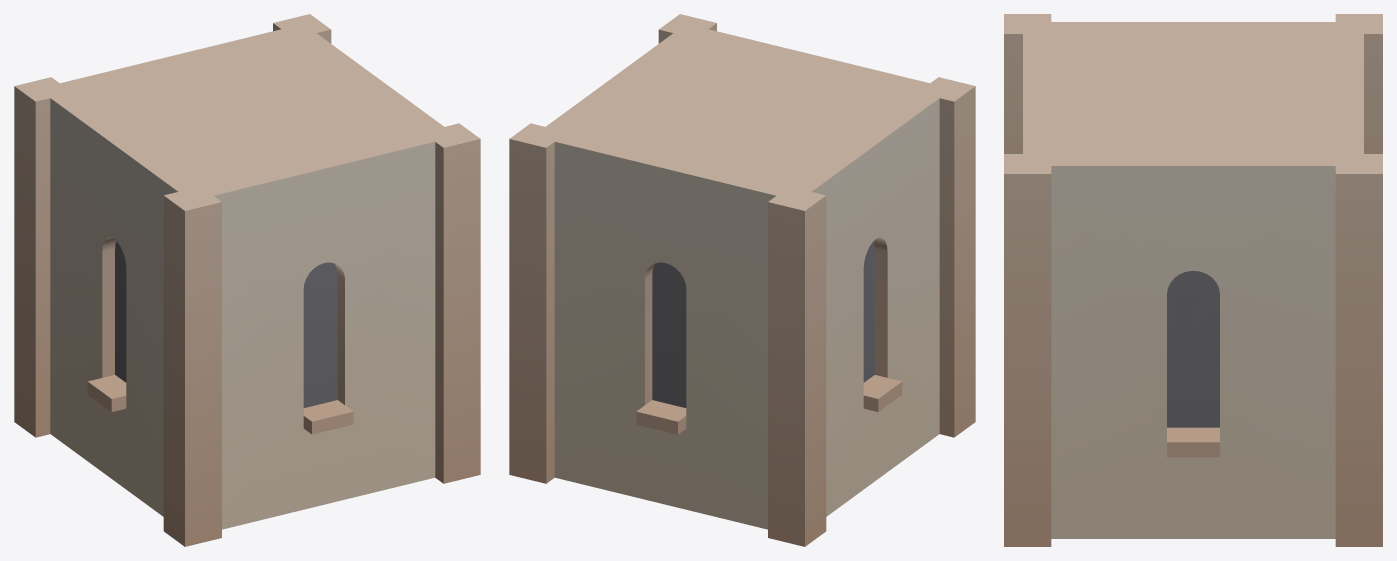
Rendered from tower-square-mid-windows.glb.
3 views of the same model, side by side, from view 1: azimuth 30°, elevation 25°; view 2: azimuth 150°, elevation 25°; view 3: azimuth 270°, elevation 25° (orthographic). The views are drawn at different scales.
Visible parts, largest first — view 1: tower-square-mid-windows; view 2: tower-square-mid-windows; view 3: tower-square-mid-windows.
Boxes of the visible parts, x1,y1,x2,y2 form: tower-square-mid-windows: [14, 14, 480, 546]; tower-square-mid-windows: [509, 14, 975, 546]; tower-square-mid-windows: [1004, 14, 1382, 546].
Size of the model in its own units: 0.93 by 1.01 by 0.93.
